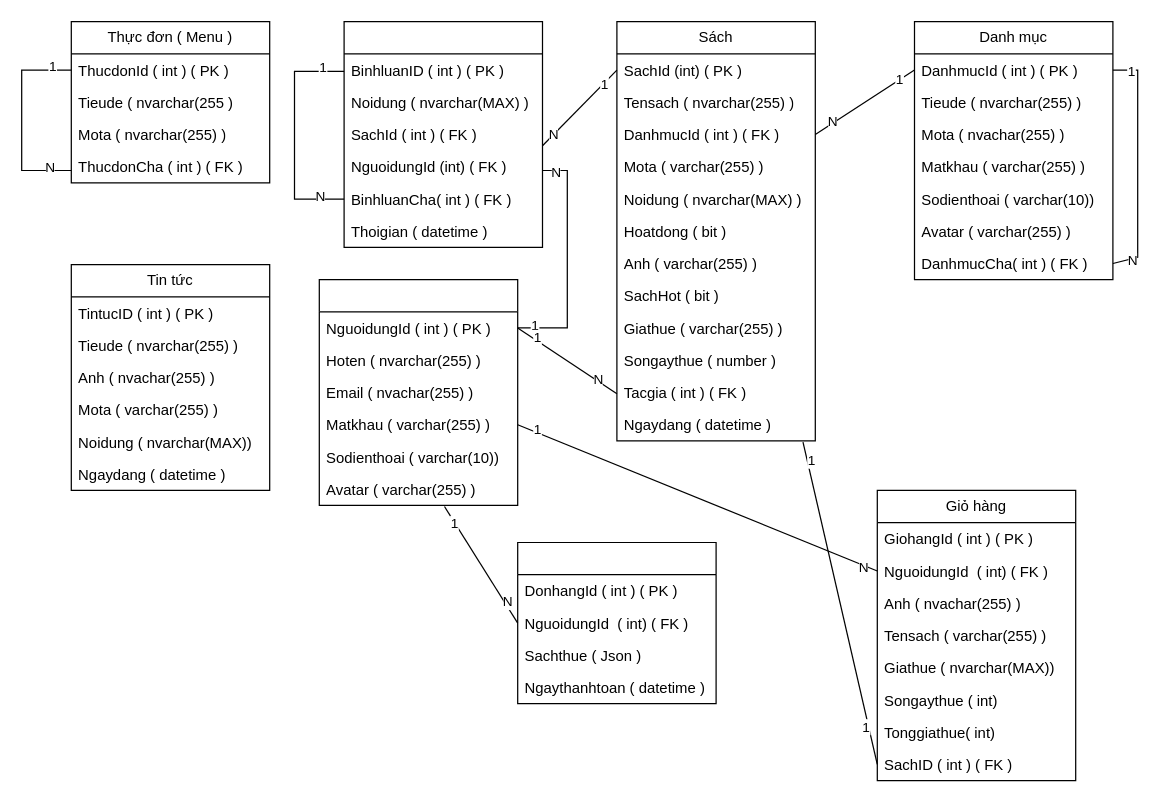
Image size: 1161x806. Some labels were removed from this diagram. The box of each missing label's shape, as (x1, y1, x2, y2) in pixels:
Bình luận: (343, 20, 542, 247)
Người dùng: (318, 278, 518, 505)
Đơn hàng: (516, 541, 716, 704)
